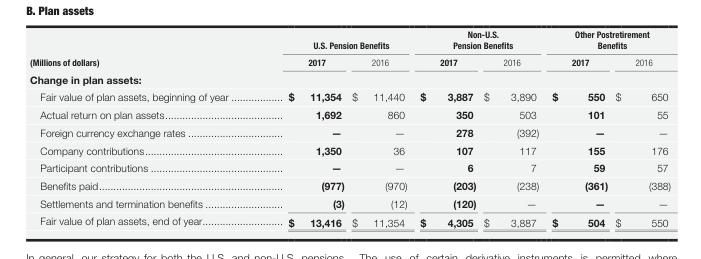table: (29, 28, 670, 228)
table column: (29, 28, 257, 228), (257, 28, 347, 228), (544, 28, 611, 228), (347, 28, 413, 228), (413, 28, 479, 228), (479, 28, 544, 228), (611, 28, 670, 228)
table column header: (29, 28, 670, 69)
table projected row header: (29, 69, 670, 87)
table row: (29, 28, 670, 53), (29, 69, 670, 87), (29, 87, 670, 105), (29, 105, 670, 123), (29, 140, 670, 158), (29, 158, 670, 176), (29, 193, 670, 211), (29, 123, 670, 140), (29, 176, 670, 193), (29, 211, 670, 228), (29, 53, 670, 69)
table spanning cell: (29, 28, 257, 69), (257, 28, 413, 53), (413, 28, 544, 53), (544, 28, 670, 53)
